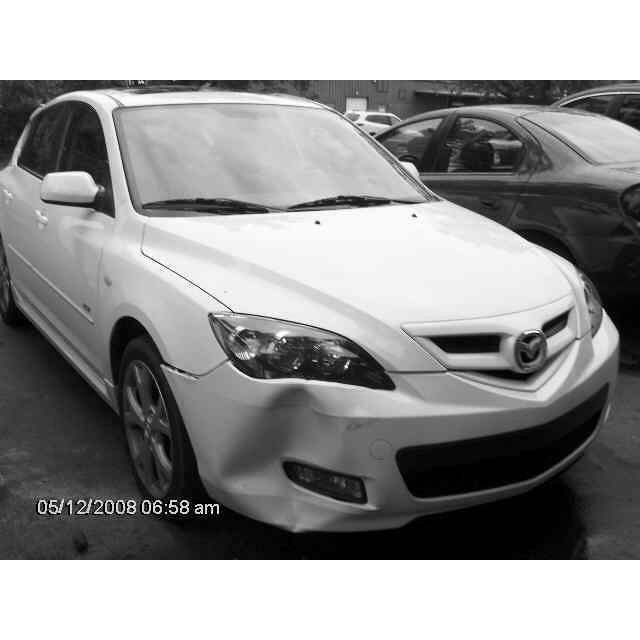front-bumper-dent: (176, 376, 365, 526)
